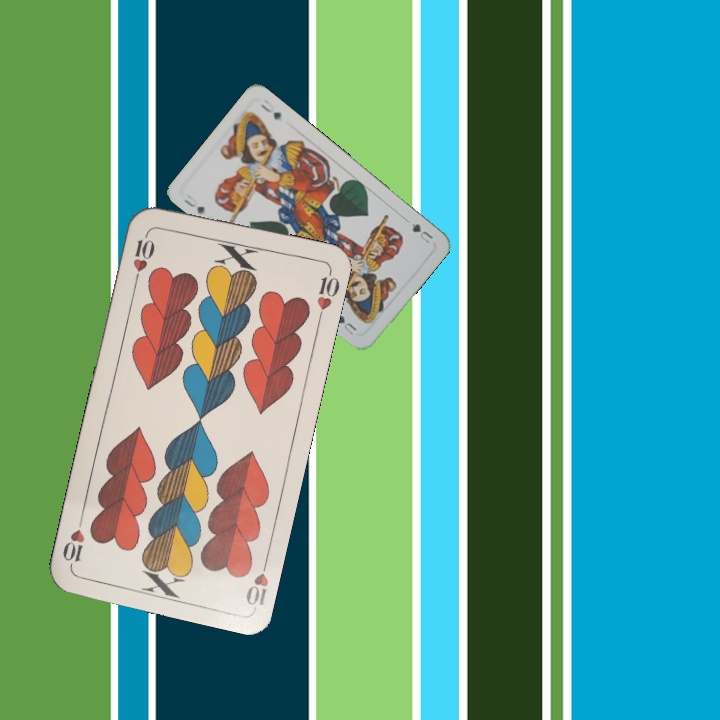GU: (407, 219, 436, 246), (179, 191, 207, 217)
H10: (241, 552, 272, 610), (129, 227, 157, 285)
